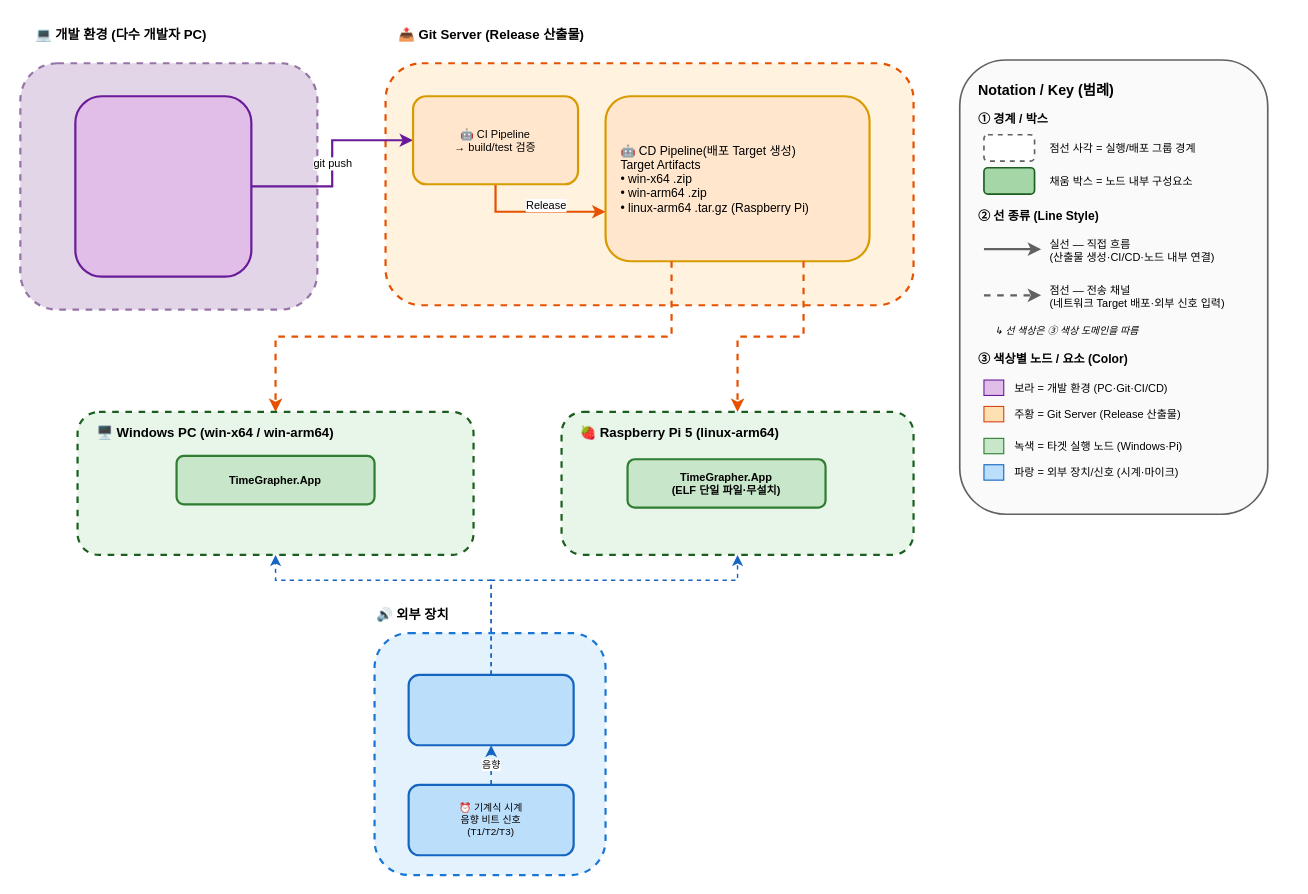
This 1308x894 diagram has some shape labels left out. The shapes that lost their labels are listed below. From the top down, each one's centre as x and y in pixels, then its label:
At pixel 163 186: "개발자 PC (VS Code) • C#/.NET 개발 • Source Code".
At pixel 490 709: "🎙️ 마이크/픽업 음향 → 전기신호".
